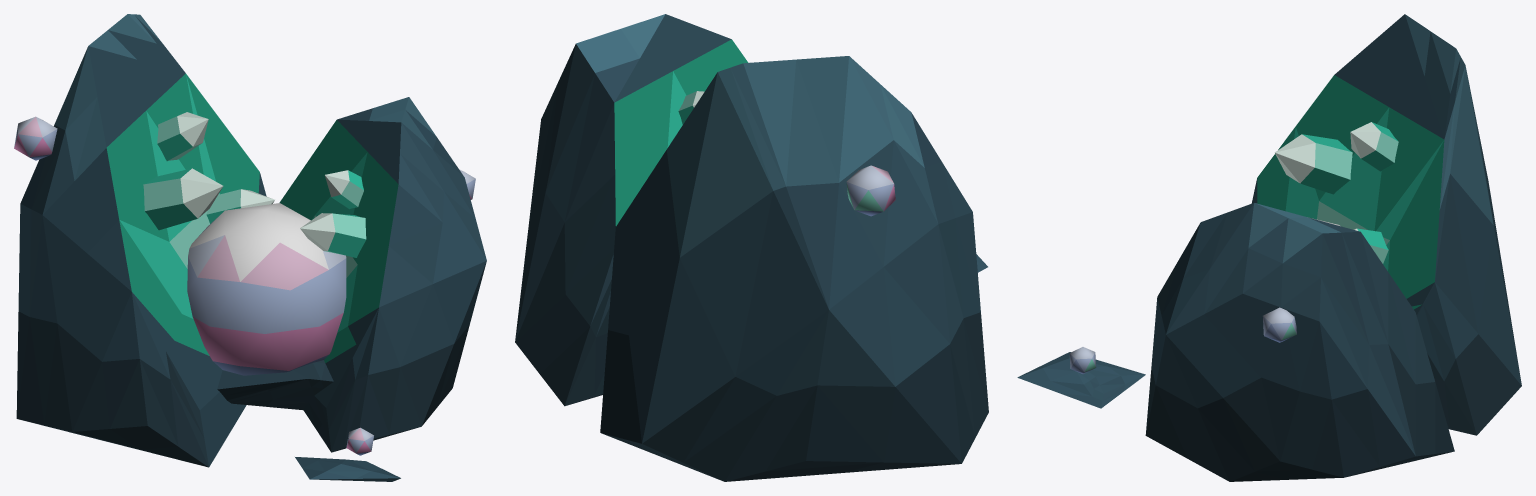
File: Leviathan_Geode.glb
3 views of the same model, side by side, from view 1: azimuth 30°, elevation 25°; view 2: azimuth 150°, elevation 25°; view 3: azimuth 270°, elevation 25° (orthographic). The views are drawn at different scales.
Visible parts, largest first — view 1: Leviathan_Geode; view 2: Leviathan_Geode; view 3: Leviathan_Geode.
Boxes of the visible parts, bbox=[...] form: Leviathan_Geode: bbox=[14, 14, 486, 481]; Leviathan_Geode: bbox=[515, 14, 988, 481]; Leviathan_Geode: bbox=[1017, 14, 1521, 481].
Size of the model in its own units: 2.11 by 1.77 by 2.32.
